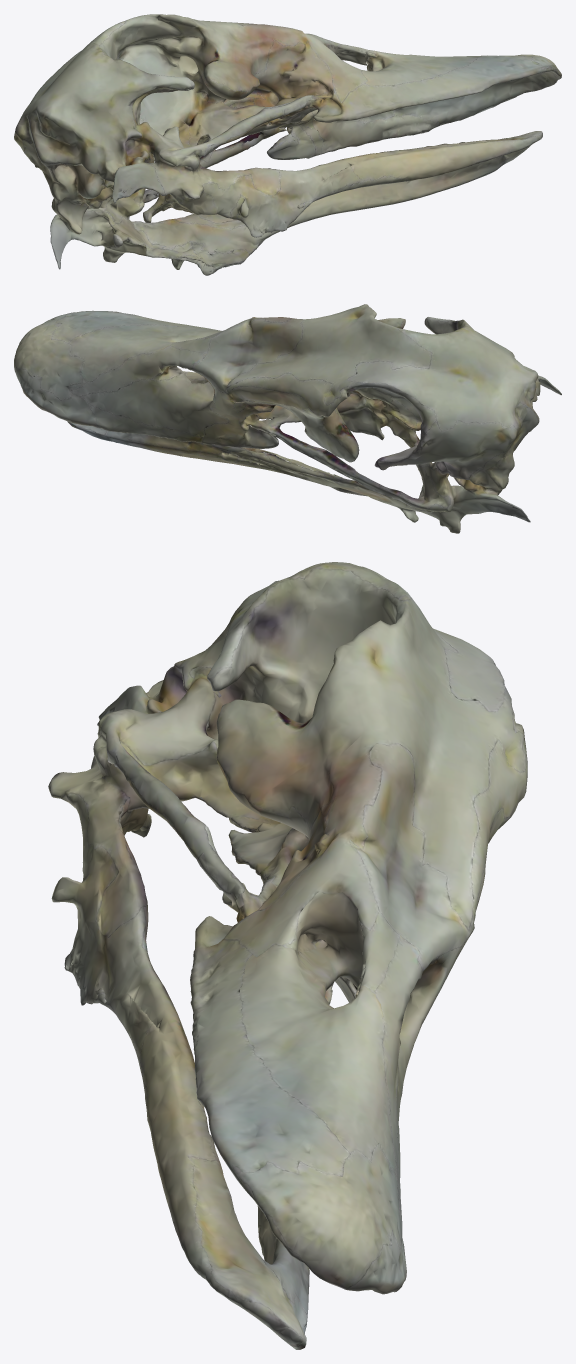
The model's file is anade.glb.
3 renders of one model, top to bottom at view 1: azimuth 30°, elevation 25°; view 2: azimuth 150°, elevation 25°; view 3: azimuth 270°, elevation 25°, orthographic. The views are drawn at different scales.
Parts seen in each view (by area): view 1: Object_2; view 2: Object_2; view 3: Object_2.
Part boxes in pixels (<box>): Object_2: <box>14,14,561,275</box>; Object_2: <box>14,304,561,533</box>; Object_2: <box>48,562,527,1349</box>.
Bounding box in the file's own units: 1.07 × 0.4535 × 0.4331.
Materials: 1 (1 with a texture image).
